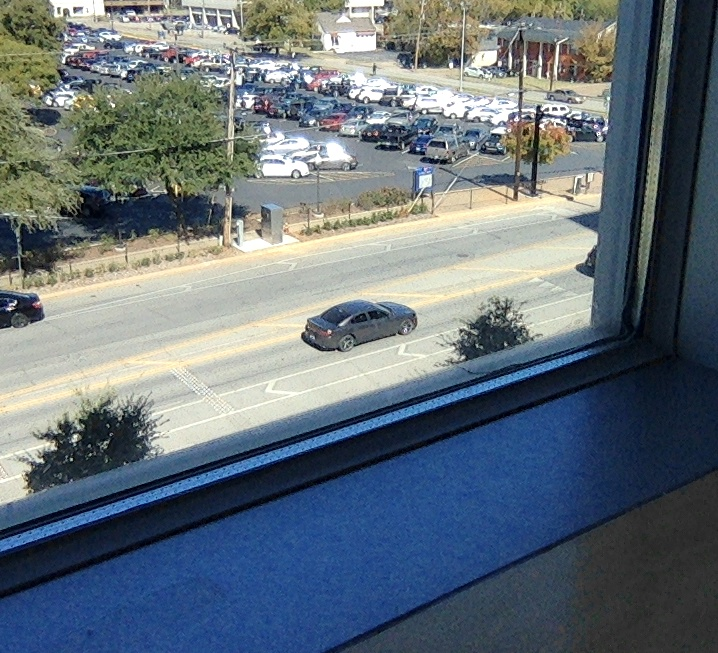car: (300, 300, 418, 353)
